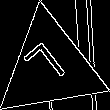L_SE: (24, 37, 76, 97)
